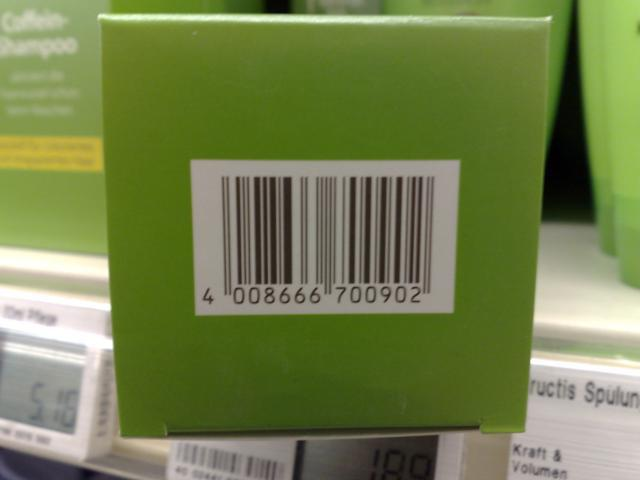Barcode: (191, 158, 459, 317)
